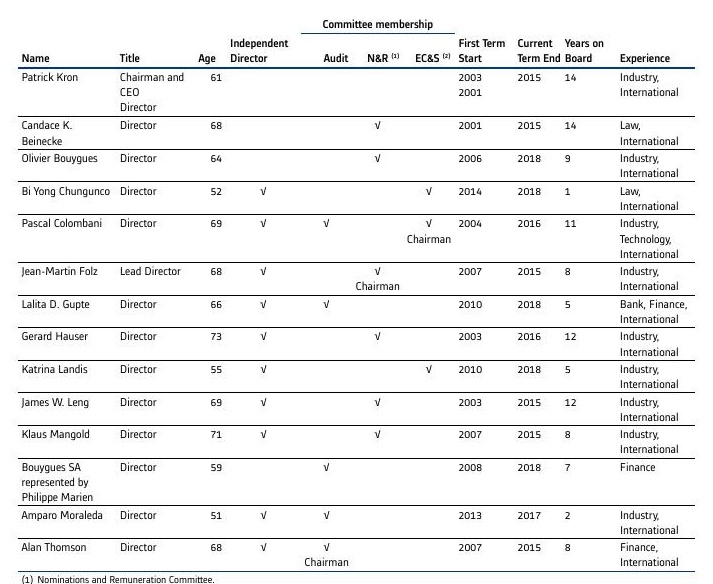table: (0, 0, 713, 584)
